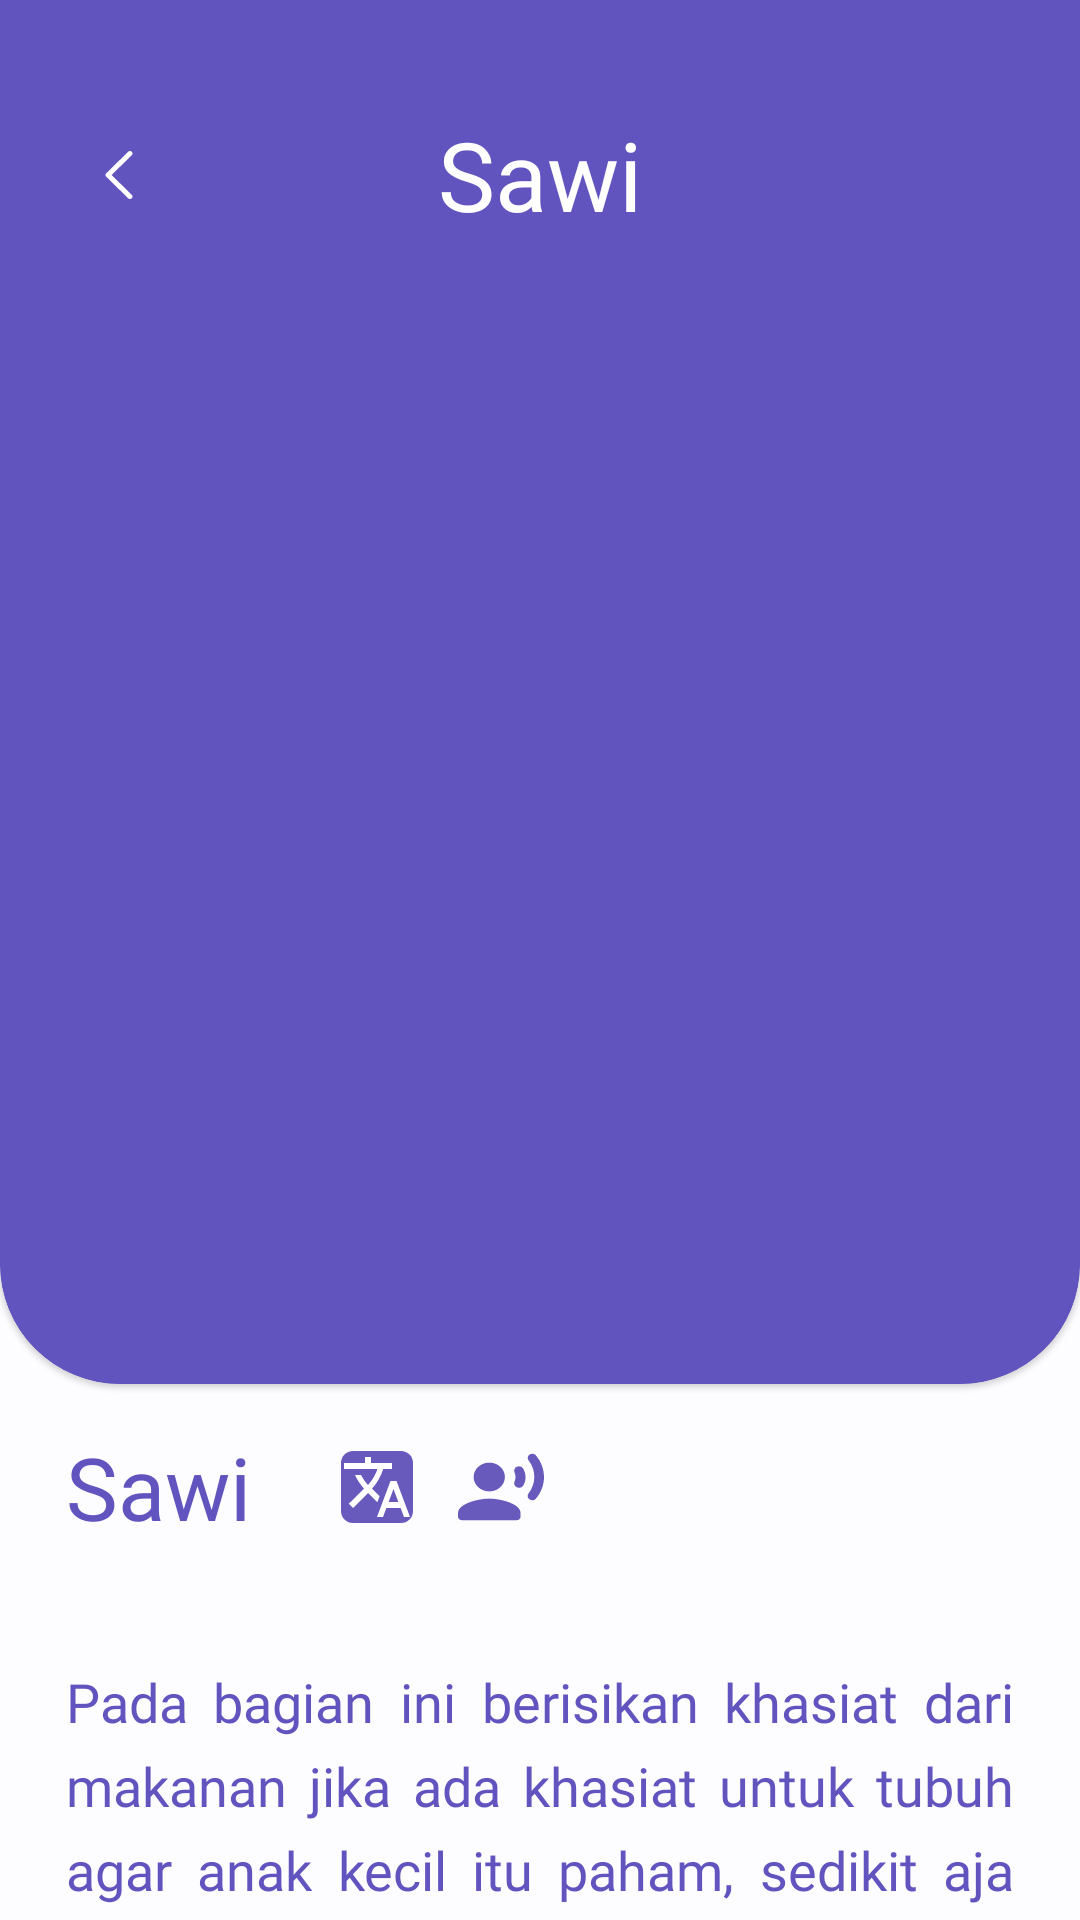

Named icons in this screenshot (1080 × 1920) and their centers, [x,y]:
tombol kembali di result: [119,175]
Translation: [377,1487]
Translation Speech: [501,1487]
